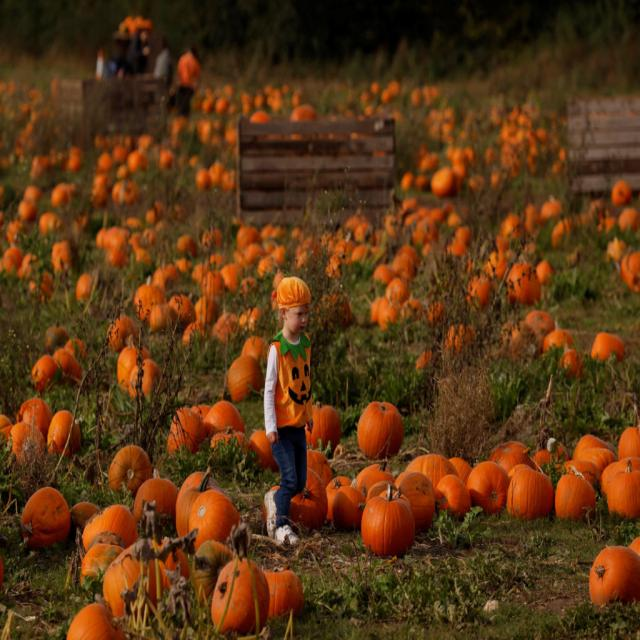pumpkin: (102, 546, 156, 617), (361, 487, 415, 557), (589, 546, 640, 607), (189, 489, 240, 549), (22, 489, 71, 549), (358, 402, 404, 459), (82, 505, 138, 551), (221, 559, 256, 632), (176, 467, 211, 537), (192, 540, 232, 600), (134, 468, 178, 521), (506, 470, 552, 520), (466, 461, 510, 513), (66, 603, 126, 640), (290, 468, 326, 529), (399, 472, 435, 530), (109, 446, 151, 494), (606, 459, 640, 518), (264, 570, 304, 617), (555, 476, 596, 521), (406, 454, 458, 489), (168, 408, 205, 453), (228, 356, 264, 402), (81, 544, 122, 584), (211, 559, 235, 625), (434, 474, 471, 516), (332, 480, 365, 527), (306, 406, 341, 449), (204, 400, 245, 436), (600, 457, 640, 493), (10, 422, 45, 463), (489, 441, 535, 472), (506, 264, 541, 304), (19, 398, 52, 438), (160, 548, 190, 589), (356, 459, 395, 490), (251, 561, 269, 628), (249, 430, 279, 469), (134, 284, 165, 321), (326, 476, 351, 521), (108, 314, 138, 351), (525, 312, 555, 348), (48, 409, 72, 453), (52, 349, 81, 385), (118, 336, 138, 388), (572, 433, 611, 459), (31, 356, 59, 392), (210, 428, 250, 451), (591, 334, 625, 361), (308, 448, 332, 486), (579, 448, 618, 471), (564, 461, 601, 485), (168, 295, 195, 326), (212, 314, 238, 345), (178, 470, 205, 499), (445, 325, 475, 351), (29, 271, 54, 302), (295, 238, 320, 269), (468, 275, 491, 308), (412, 216, 439, 244), (195, 295, 220, 325), (621, 253, 640, 292), (141, 360, 160, 397), (71, 502, 99, 527), (559, 349, 584, 377), (91, 173, 111, 207), (152, 264, 179, 289), (619, 426, 640, 458), (542, 330, 574, 351), (385, 277, 410, 303), (1, 247, 24, 275), (500, 212, 522, 241), (484, 253, 508, 279), (241, 336, 268, 359), (51, 242, 71, 273), (366, 481, 396, 501), (391, 255, 415, 280), (112, 181, 138, 204), (202, 271, 224, 298), (379, 302, 400, 330), (45, 326, 69, 350), (102, 227, 129, 248), (524, 203, 542, 234), (242, 243, 266, 266), (236, 225, 260, 248), (450, 457, 472, 482), (39, 212, 64, 234), (220, 264, 241, 290), (611, 179, 632, 205), (431, 168, 451, 195), (618, 207, 640, 231), (149, 304, 168, 331), (126, 149, 148, 172), (606, 238, 628, 261), (239, 308, 261, 330), (106, 245, 128, 267), (65, 338, 88, 359), (66, 424, 81, 456), (18, 255, 38, 279), (18, 199, 38, 223), (451, 148, 466, 180), (75, 273, 92, 301), (51, 183, 70, 208), (176, 234, 198, 255), (399, 245, 420, 267), (541, 197, 562, 219), (291, 105, 318, 122), (536, 260, 555, 284), (6, 219, 24, 243), (371, 297, 388, 322), (334, 240, 355, 260), (551, 219, 566, 247), (374, 264, 395, 283), (345, 214, 368, 231), (209, 162, 225, 186), (428, 301, 444, 325), (350, 243, 369, 263), (201, 229, 222, 247), (260, 225, 285, 240), (508, 463, 531, 479), (325, 255, 341, 278), (96, 153, 114, 173), (158, 149, 175, 170), (182, 323, 198, 345), (195, 168, 211, 190), (354, 221, 370, 243), (400, 197, 419, 215), (532, 450, 551, 468), (206, 476, 226, 493), (191, 404, 211, 421), (191, 264, 208, 284), (258, 256, 275, 276), (415, 350, 432, 370), (446, 240, 468, 255), (221, 171, 236, 192), (135, 247, 152, 265), (24, 184, 42, 201), (112, 144, 128, 163), (455, 227, 471, 246), (271, 245, 285, 266), (129, 232, 142, 252), (142, 229, 158, 245), (175, 258, 192, 273), (208, 253, 225, 268), (262, 240, 279, 255), (96, 227, 108, 248), (250, 111, 269, 124), (67, 155, 82, 171), (215, 96, 229, 113), (392, 491, 410, 504), (395, 470, 408, 488), (401, 172, 414, 190), (129, 367, 137, 396), (125, 218, 144, 230), (145, 208, 158, 225), (388, 79, 401, 96), (410, 89, 422, 107), (201, 98, 215, 113), (430, 208, 445, 222), (225, 127, 236, 146), (116, 164, 129, 180), (448, 212, 461, 227), (630, 537, 640, 556), (234, 251, 245, 267), (69, 145, 84, 156), (381, 89, 392, 104), (1, 555, 4, 589), (0, 210, 4, 228), (380, 491, 388, 498)
